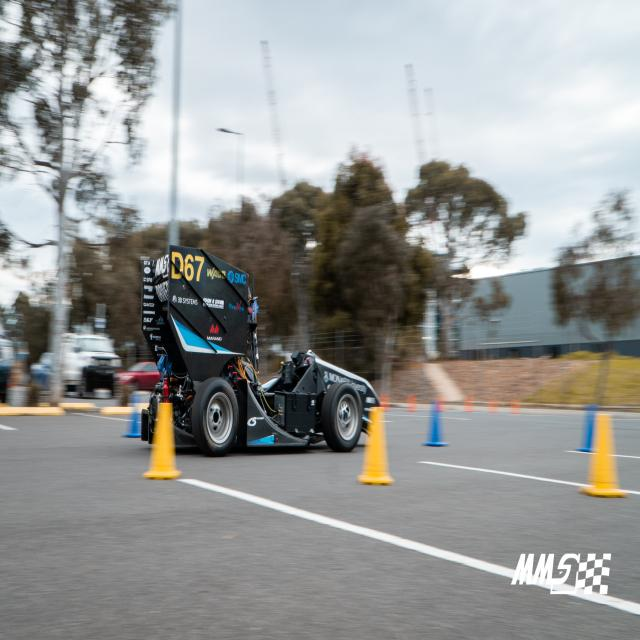blue_cone: (421, 400, 447, 446), (578, 405, 601, 452), (122, 392, 146, 437)
yellow_cone: (580, 414, 626, 496), (143, 402, 182, 478), (358, 408, 392, 484)
